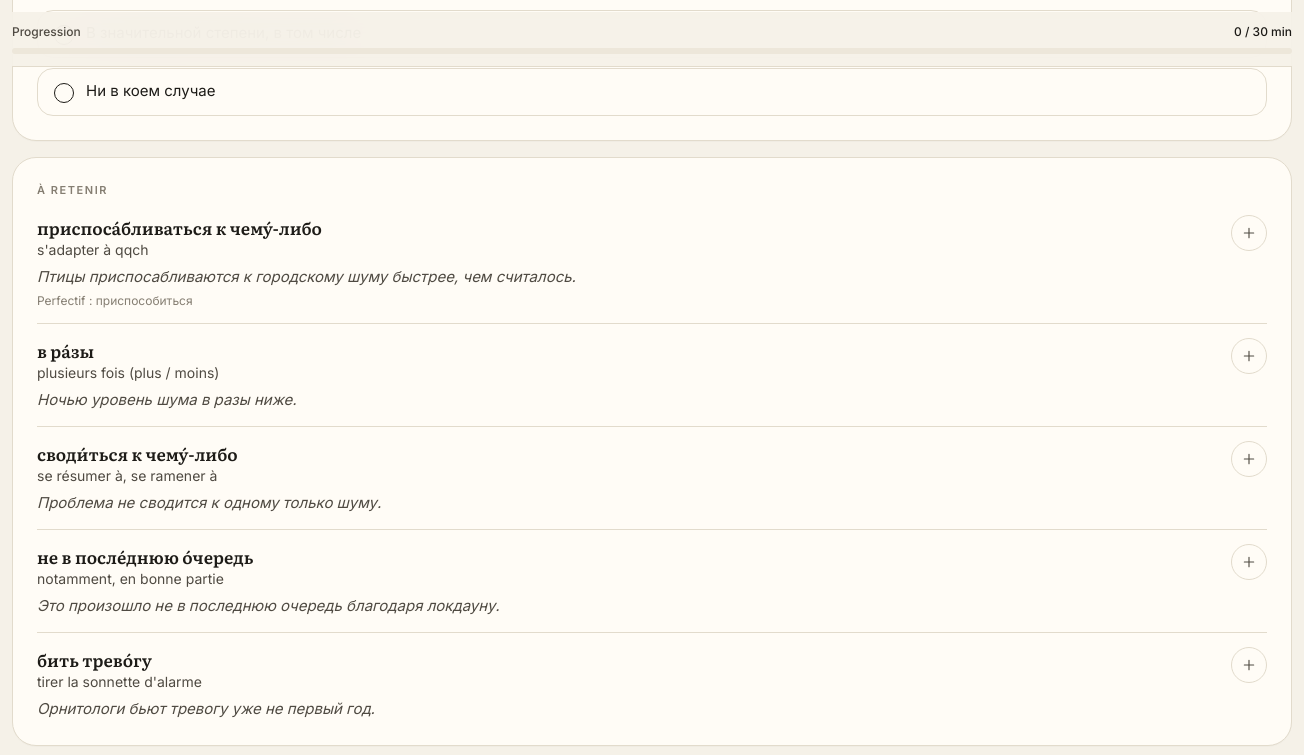
MissionView › saves an expression once, and shows it as already in the words
This screenshot has width=1304, height=755.
(page scrolled)
Click the button named "Ajouter « в ра́зы » aux mots" at (1249, 356), box [1231,338,1267,374]
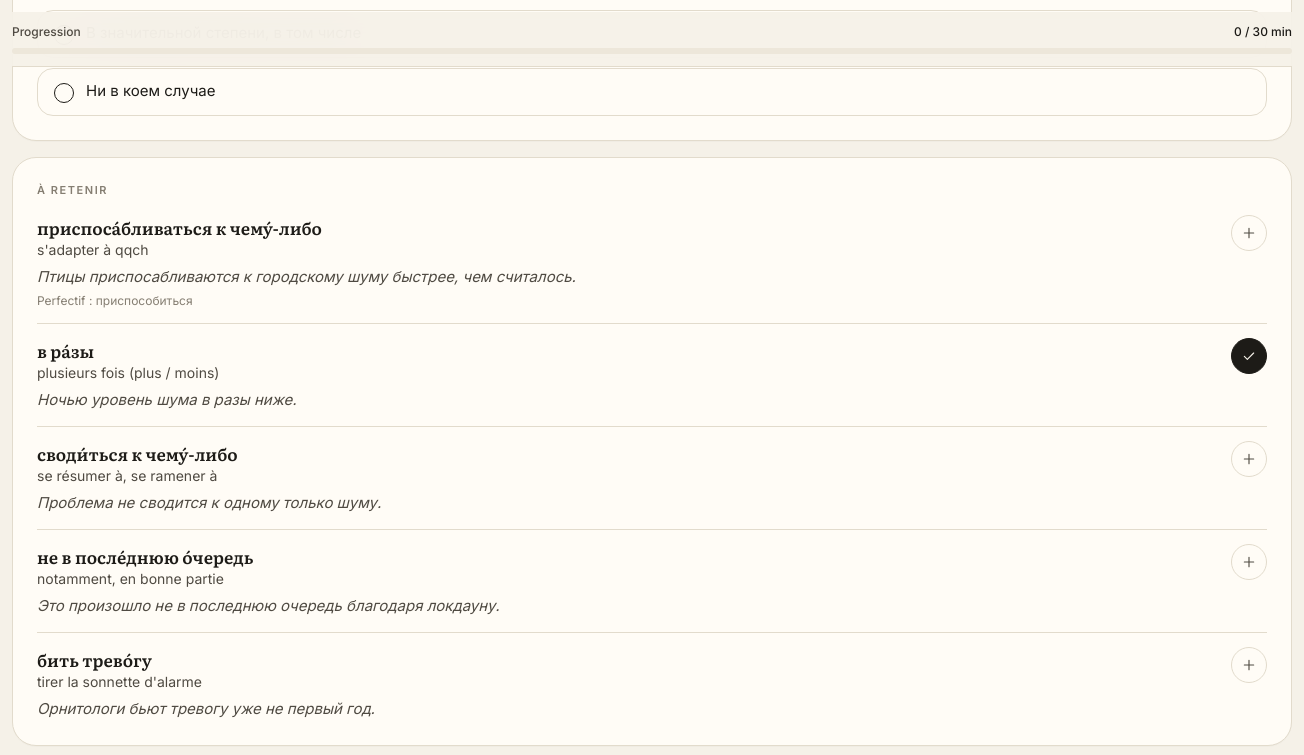
Now the button named "« в ра́зы » est dans tes mots" is disabled, box [1231,338,1267,374]
